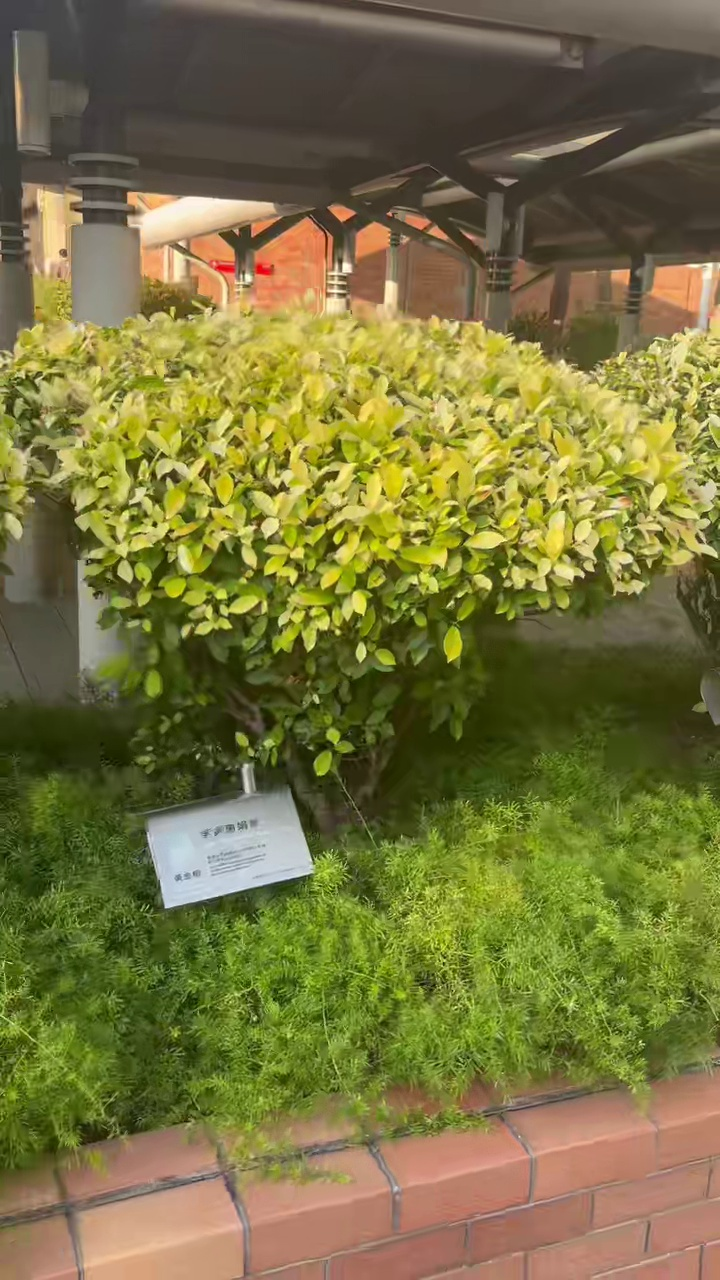Golden-leaves Fig: (2, 312, 704, 808)
